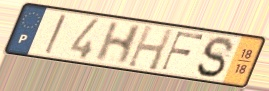4: (67, 16, 103, 61)
F: (159, 30, 207, 72)
H: (125, 23, 176, 73), (92, 20, 145, 66)
I: (42, 12, 68, 56)
S: (194, 35, 236, 80)
